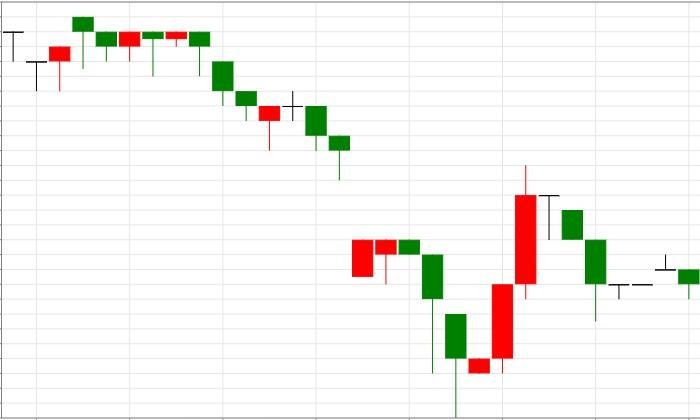hanging_man_fall: (26, 16, 94, 91)
three_white_soldiers_rise: (375, 164, 537, 417)
